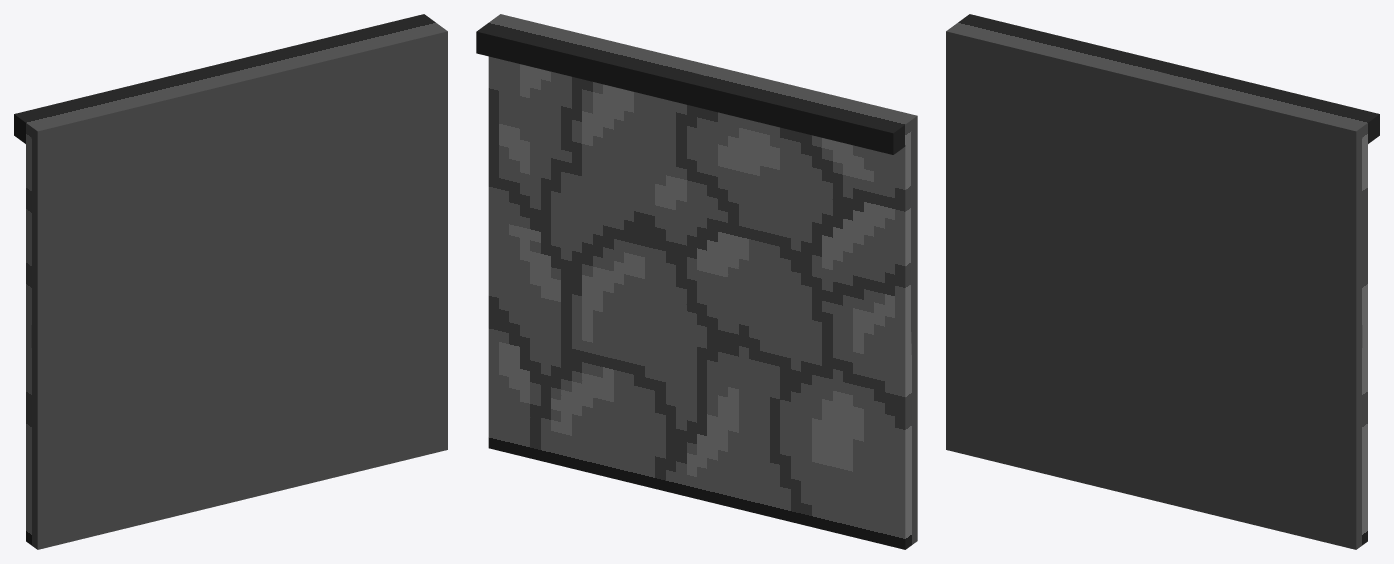
The model's file is WallDefault_ML.fbx.
3 renders of one model, left to right at view 1: azimuth 30°, elevation 25°; view 2: azimuth 150°, elevation 25°; view 3: azimuth 330°, elevation 25°, orthographic.
Visible parts, largest first — view 1: WallDefault_ML.Merged; view 2: WallDefault_ML.Merged; view 3: WallDefault_ML.Merged.
Boxes of the visible parts, x1,y1,x2,y2 form: WallDefault_ML.Merged: [14, 14, 447, 549]; WallDefault_ML.Merged: [476, 14, 917, 549]; WallDefault_ML.Merged: [946, 14, 1379, 549].
Size of the model in its own units: 8000 by 7800 by 800.
